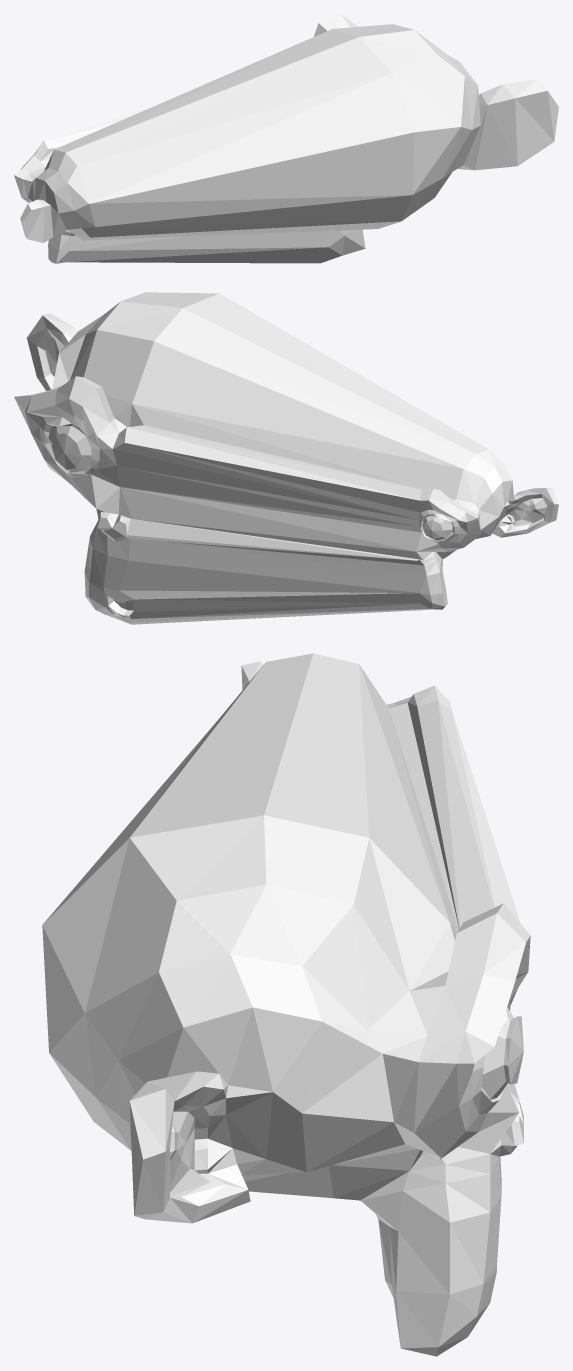
The model's file is sayuu2.obj.
3 renders of one model, top to bottom at view 1: azimuth 30°, elevation 25°; view 2: azimuth 150°, elevation 25°; view 3: azimuth 270°, elevation 25°, orthographic. The views are drawn at different scales.
Visible parts, largest first — view 1: モンキー; view 2: モンキー; view 3: モンキー.
Part boxes in pixels (x1,y1,x2,y2): モンキー: (14,14,558,263); モンキー: (14,292,558,624); モンキー: (42,653,530,1356).
Size of the model in its own units: 4.11 by 1.97 by 1.7.
1 material, 1 textured.
